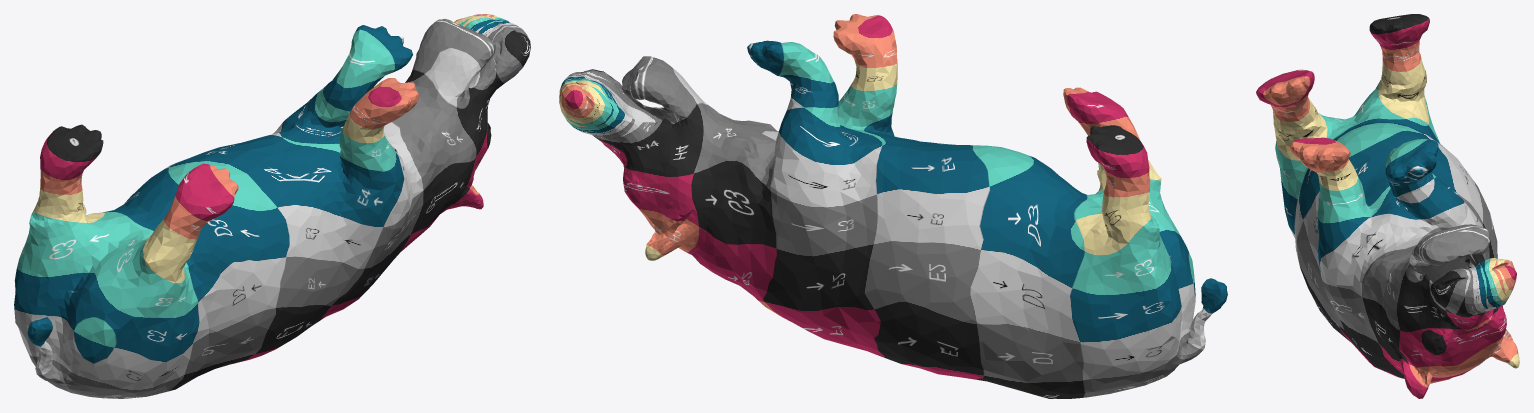
File: wolf_01-hippo_01.obj
3 views of the same model, side by side, from view 1: azimuth 30°, elevation 25°; view 2: azimuth 150°, elevation 25°; view 3: azimuth 270°, elevation 25° (orthographic). The views are drawn at different scales.
Visible parts, largest first — view 1: wolf_01-hippo_01_export; view 2: wolf_01-hippo_01_export; view 3: wolf_01-hippo_01_export.
Boxes of the visible parts, x1=… form: wolf_01-hippo_01_export: x1=14, y1=14, x2=530, y2=398; wolf_01-hippo_01_export: x1=559, y1=14, x2=1227, y2=398; wolf_01-hippo_01_export: x1=1256, y1=14, x2=1519, y2=398.
Size of the model in its own units: 0.982 by 0.4752 by 0.402.
